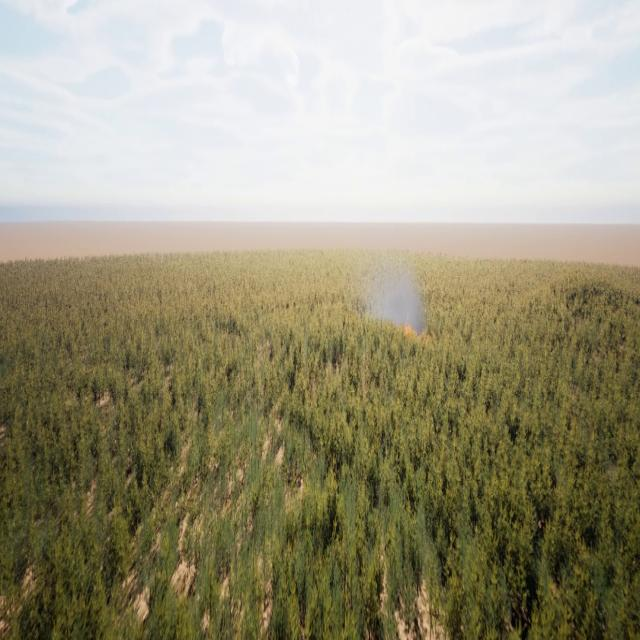smoke: (359, 258, 429, 336)
